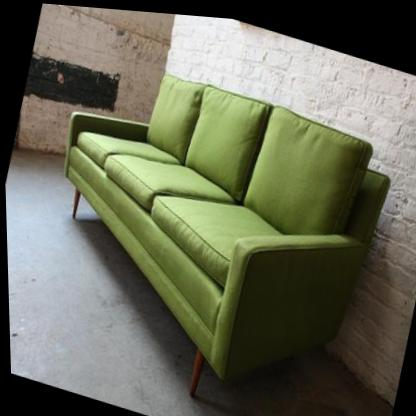Carpet: (63, 72, 391, 397)
